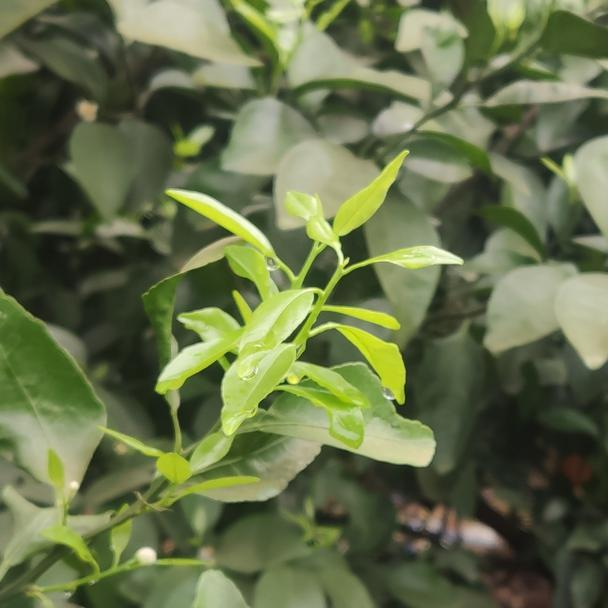shoot: (179, 183, 444, 441)
